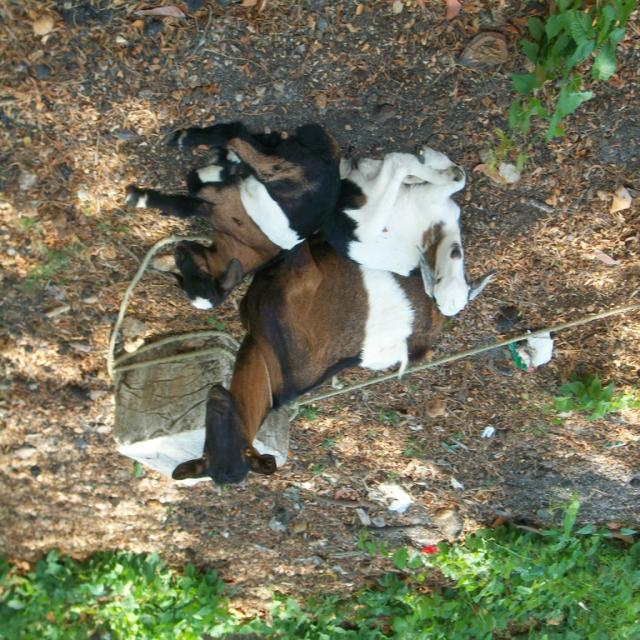Goat: (171, 236, 453, 488), (124, 123, 342, 312), (320, 146, 498, 318)
